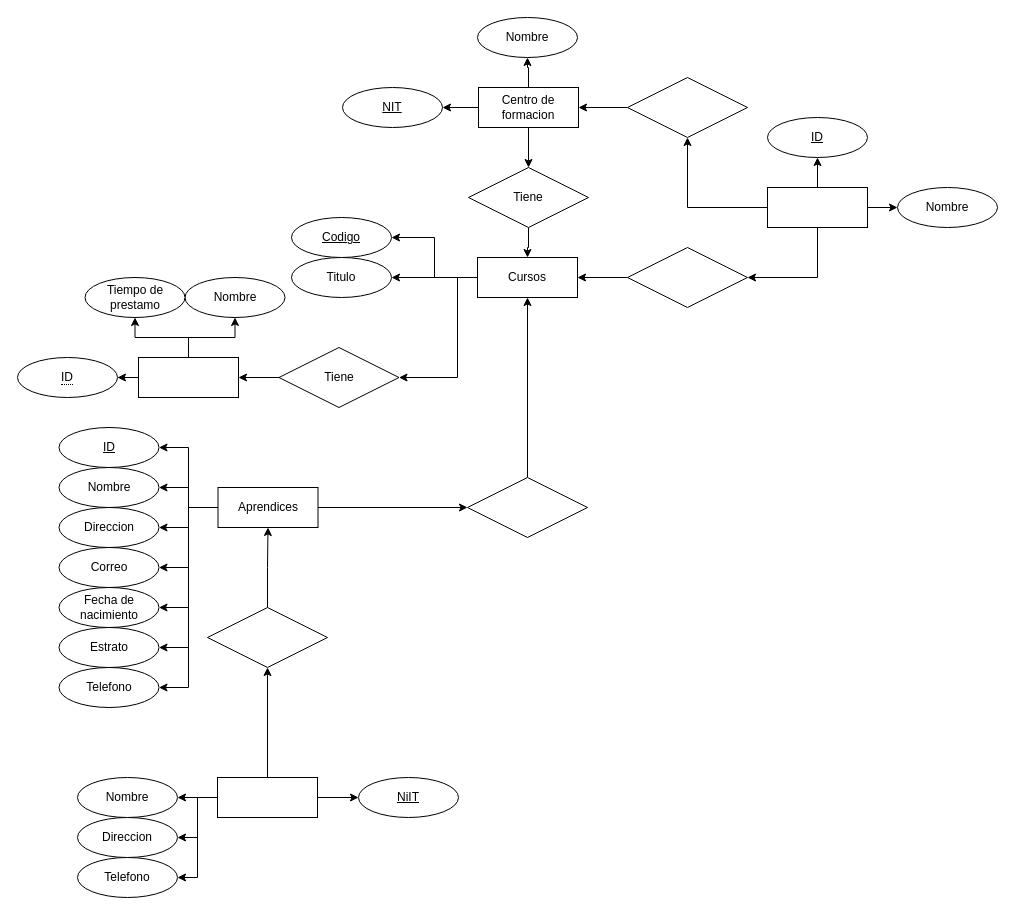
The diagram is 1015 pixels wide and 915 high, and some of its shapes have lost their labels. Each missing label, with the centre of its shape:
"Dicta" goes at (x=687, y=277).
"Empresa" goes at (x=267, y=797).
"Formato" goes at (x=188, y=377).
"Patrocina" goes at (x=267, y=637).
"Pertenecen" goes at (x=687, y=107).
"Profesores" goes at (x=817, y=207).
"Realizan" goes at (x=527, y=507).
